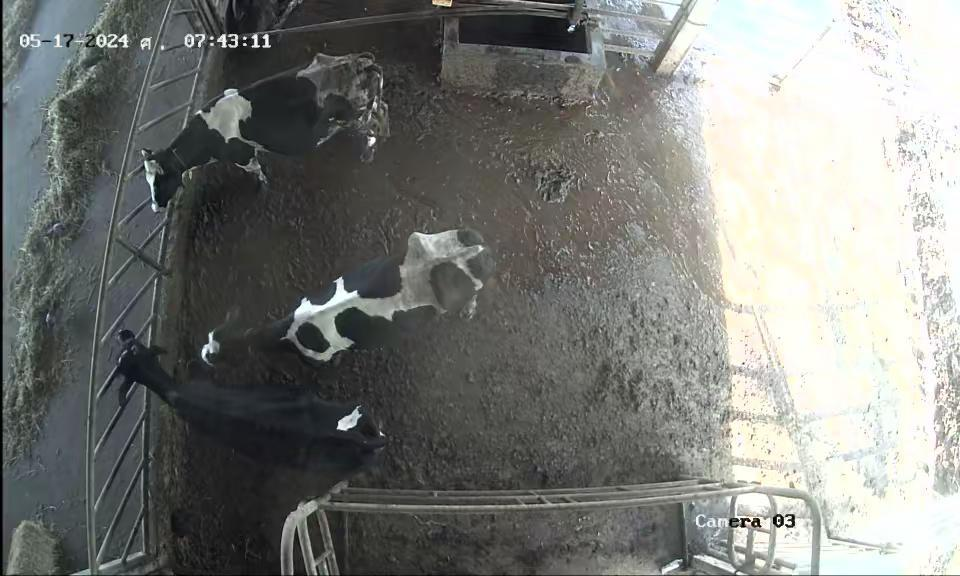stand: (177, 215, 532, 376), (128, 38, 403, 231), (114, 324, 397, 483)
